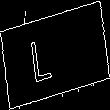L_N: (42, 27, 68, 83)
